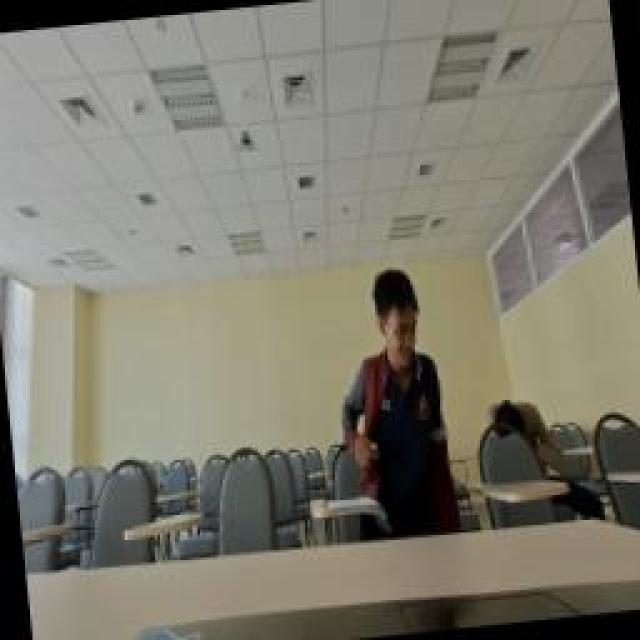sleep: (485, 390, 570, 488)
